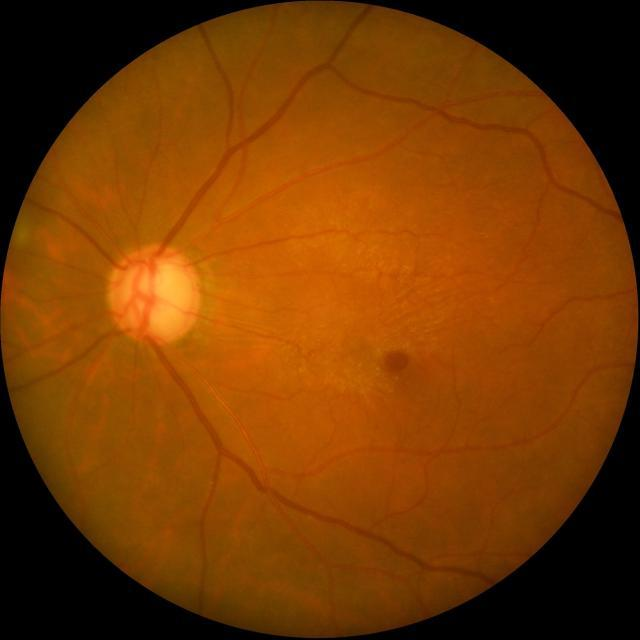OC: (128, 264, 190, 336)
OD: (106, 244, 204, 344)
